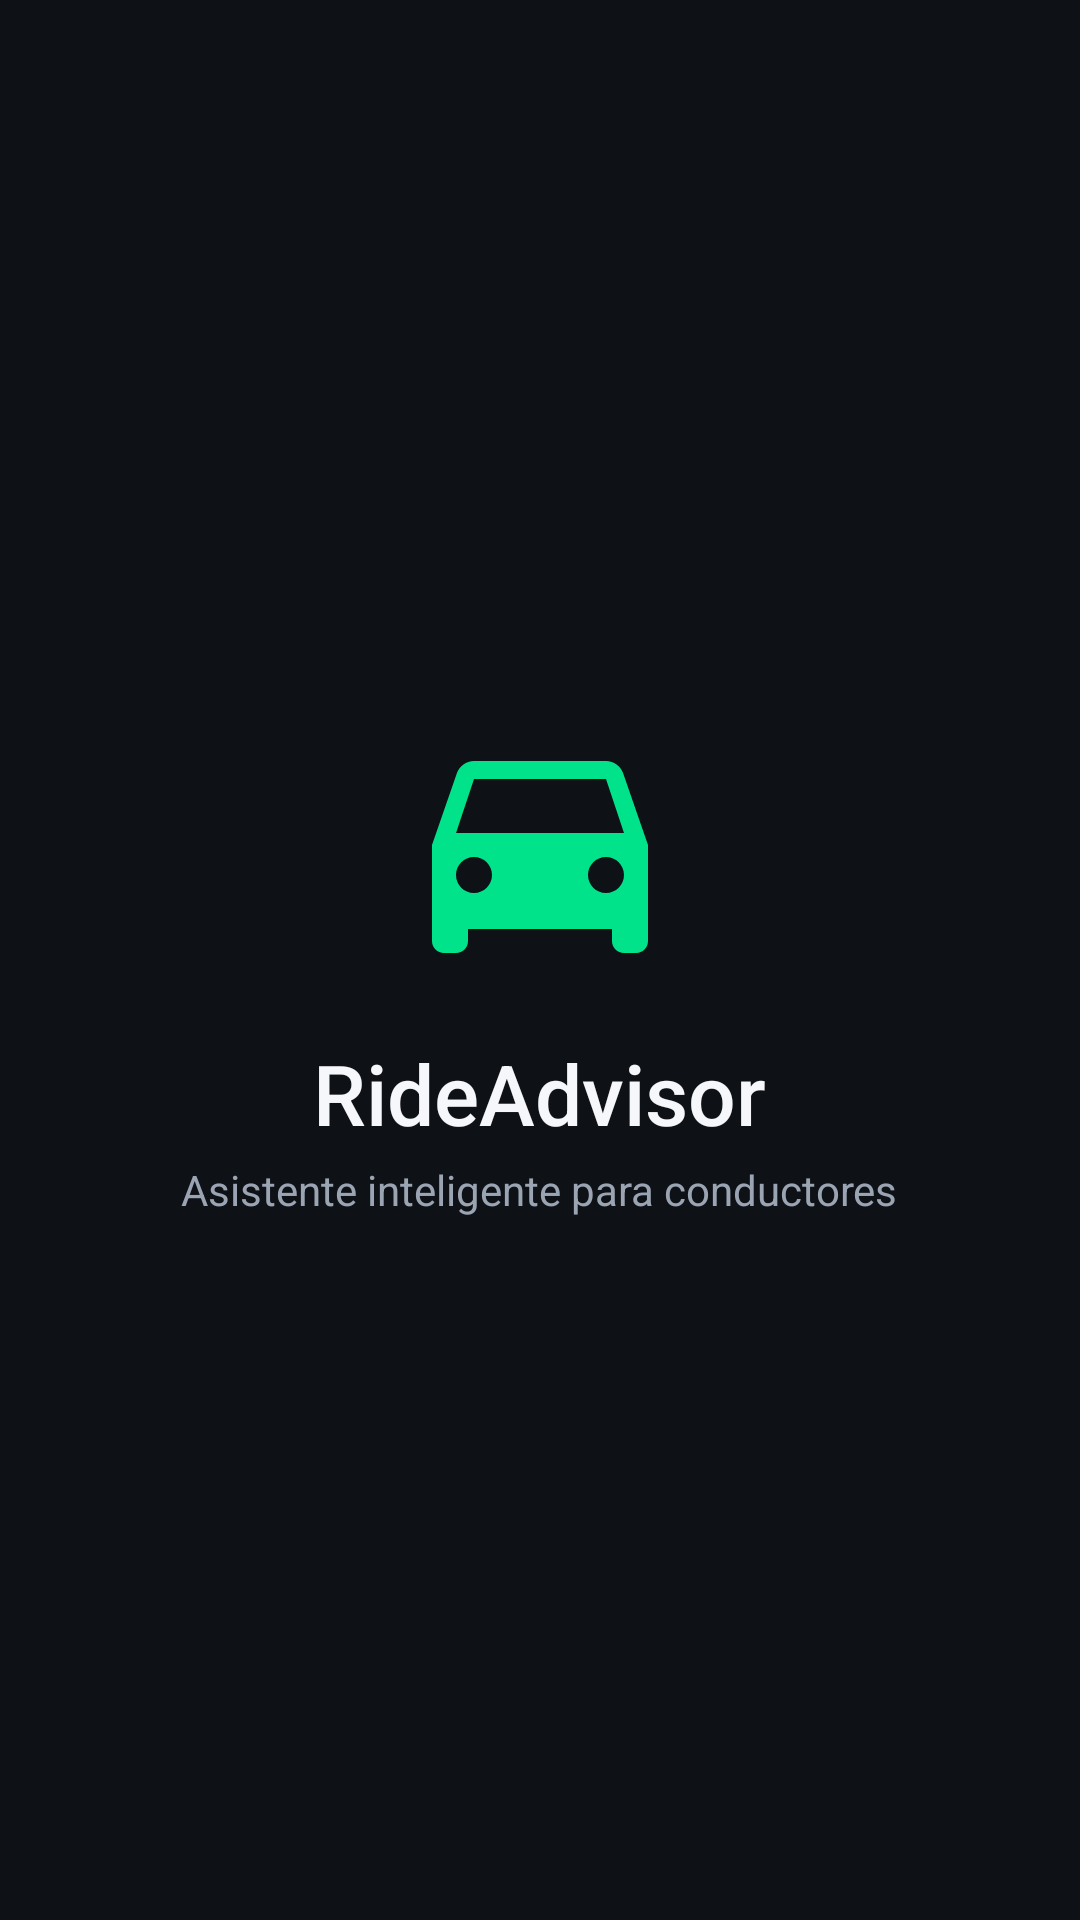

Named icons in this screenshot (1080 × 1920) and their bounding boxes, detection(x1, y1, x2, y2):
car: detection(432, 761, 648, 953)
